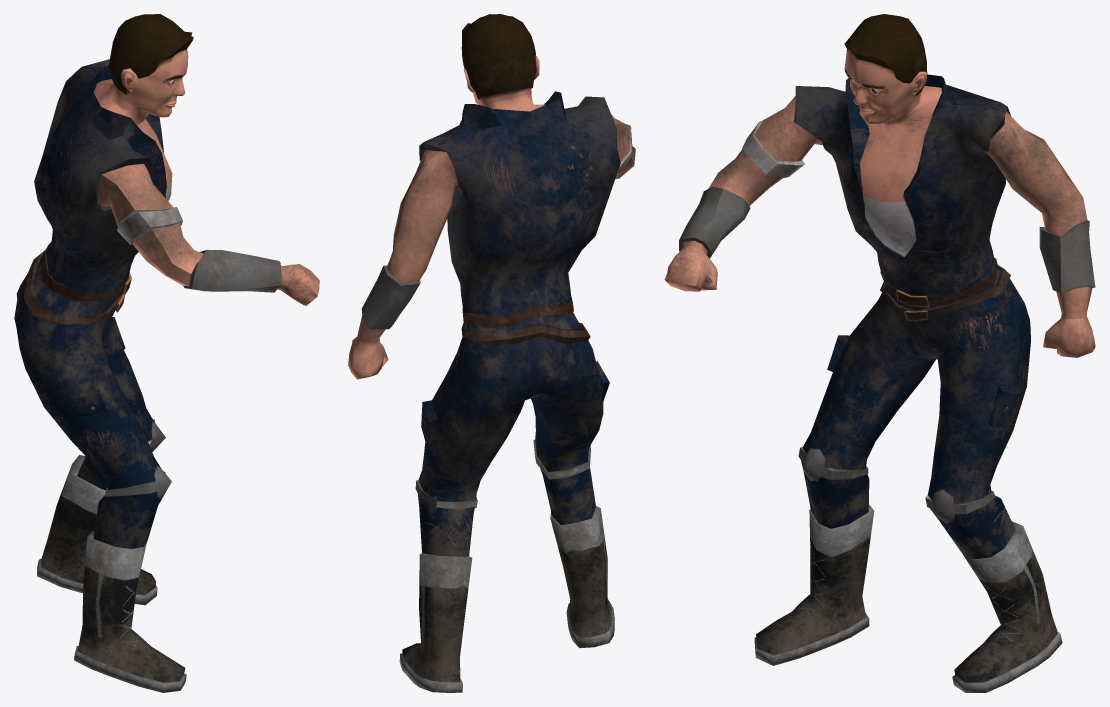
File: Anim_interruptor_jugador.0029.obj
3 renders of one model, left to right at view 1: azimuth 30°, elevation 25°; view 2: azimuth 150°, elevation 25°; view 3: azimuth 270°, elevation 25°, orthographic. The views are drawn at different scales.
Visible parts, largest first — view 1: polySurface1; view 2: polySurface1; view 3: polySurface1.
Part boxes in pixels (left/top/right/bottom): polySurface1: left=14, top=14, right=319, bottom=692; polySurface1: left=348, top=14, right=635, bottom=692; polySurface1: left=664, top=14, right=1095, bottom=692.
Size of the model in its own units: 2.91 by 9.18 by 5.46.
